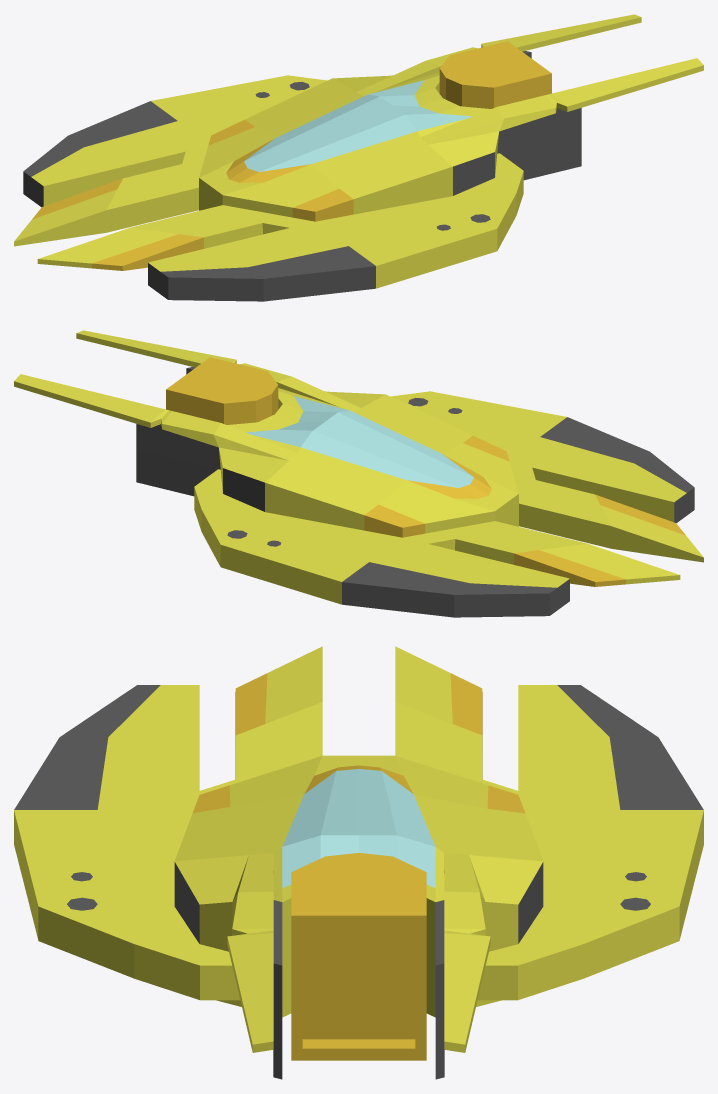
File: VaisseauPrincipal2.fbx
3 renders of one model, top to bottom at view 1: azimuth 30°, elevation 25°; view 2: azimuth 150°, elevation 25°; view 3: azimuth 270°, elevation 25°, orthographic. The views are drawn at different scales.
Parts seen in each view (by area): view 1: Vaisseau; view 2: Vaisseau; view 3: Vaisseau.
Boxes of the visible parts, bbox=[...] form: Vaisseau: bbox=[14, 14, 703, 301]; Vaisseau: bbox=[14, 330, 703, 617]; Vaisseau: bbox=[14, 646, 703, 1079].
Size of the model in its own units: 1277 by 180 by 775.
